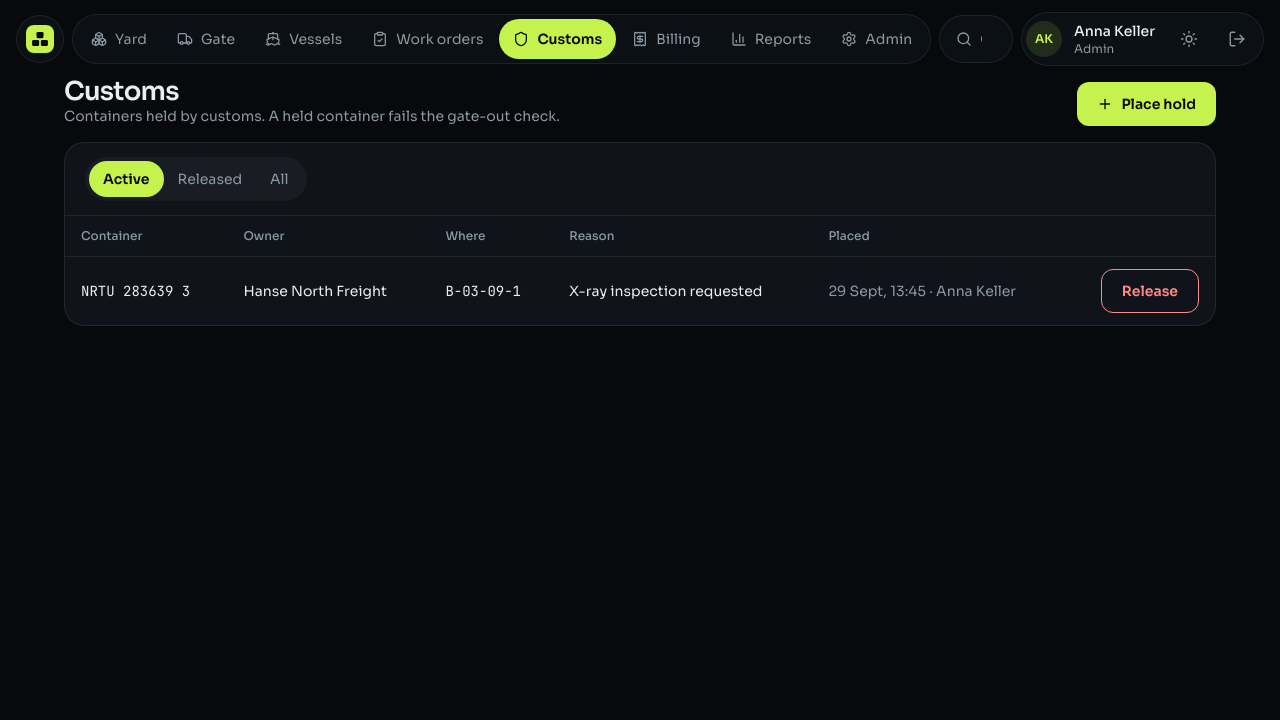
Test: customs › releases a hold after confirming
Click the button "Release" at (1150, 291), box [1101, 269, 1199, 313]
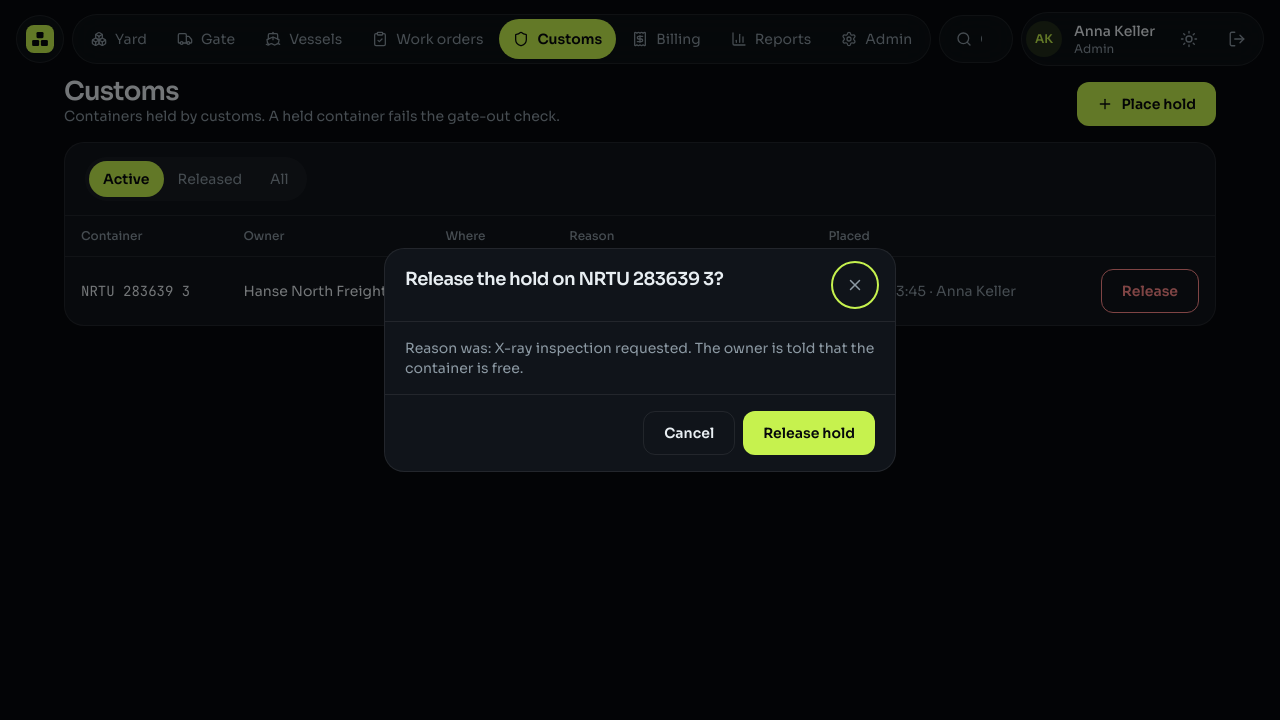
Click the button "Release hold" at (809, 433), box [743, 411, 875, 455]
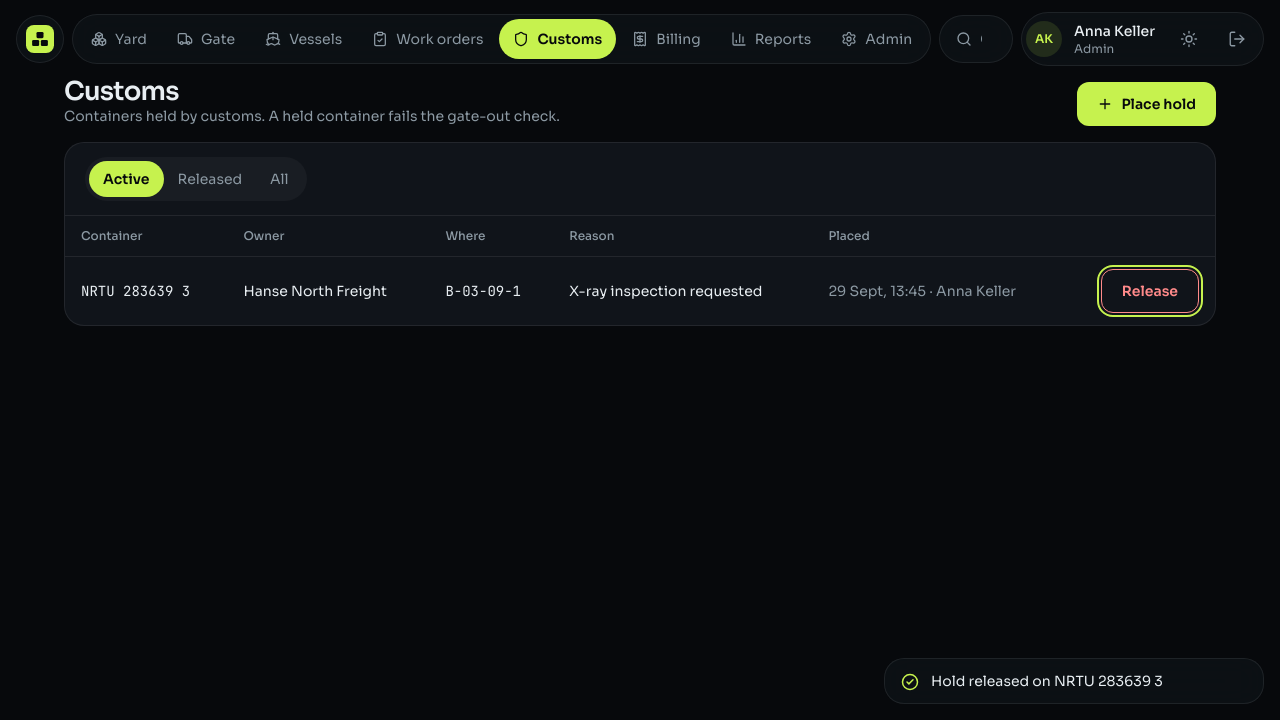
Expected: the text "Hold released on NRTU 283639 3" is shown, [931, 671, 1163, 691]
